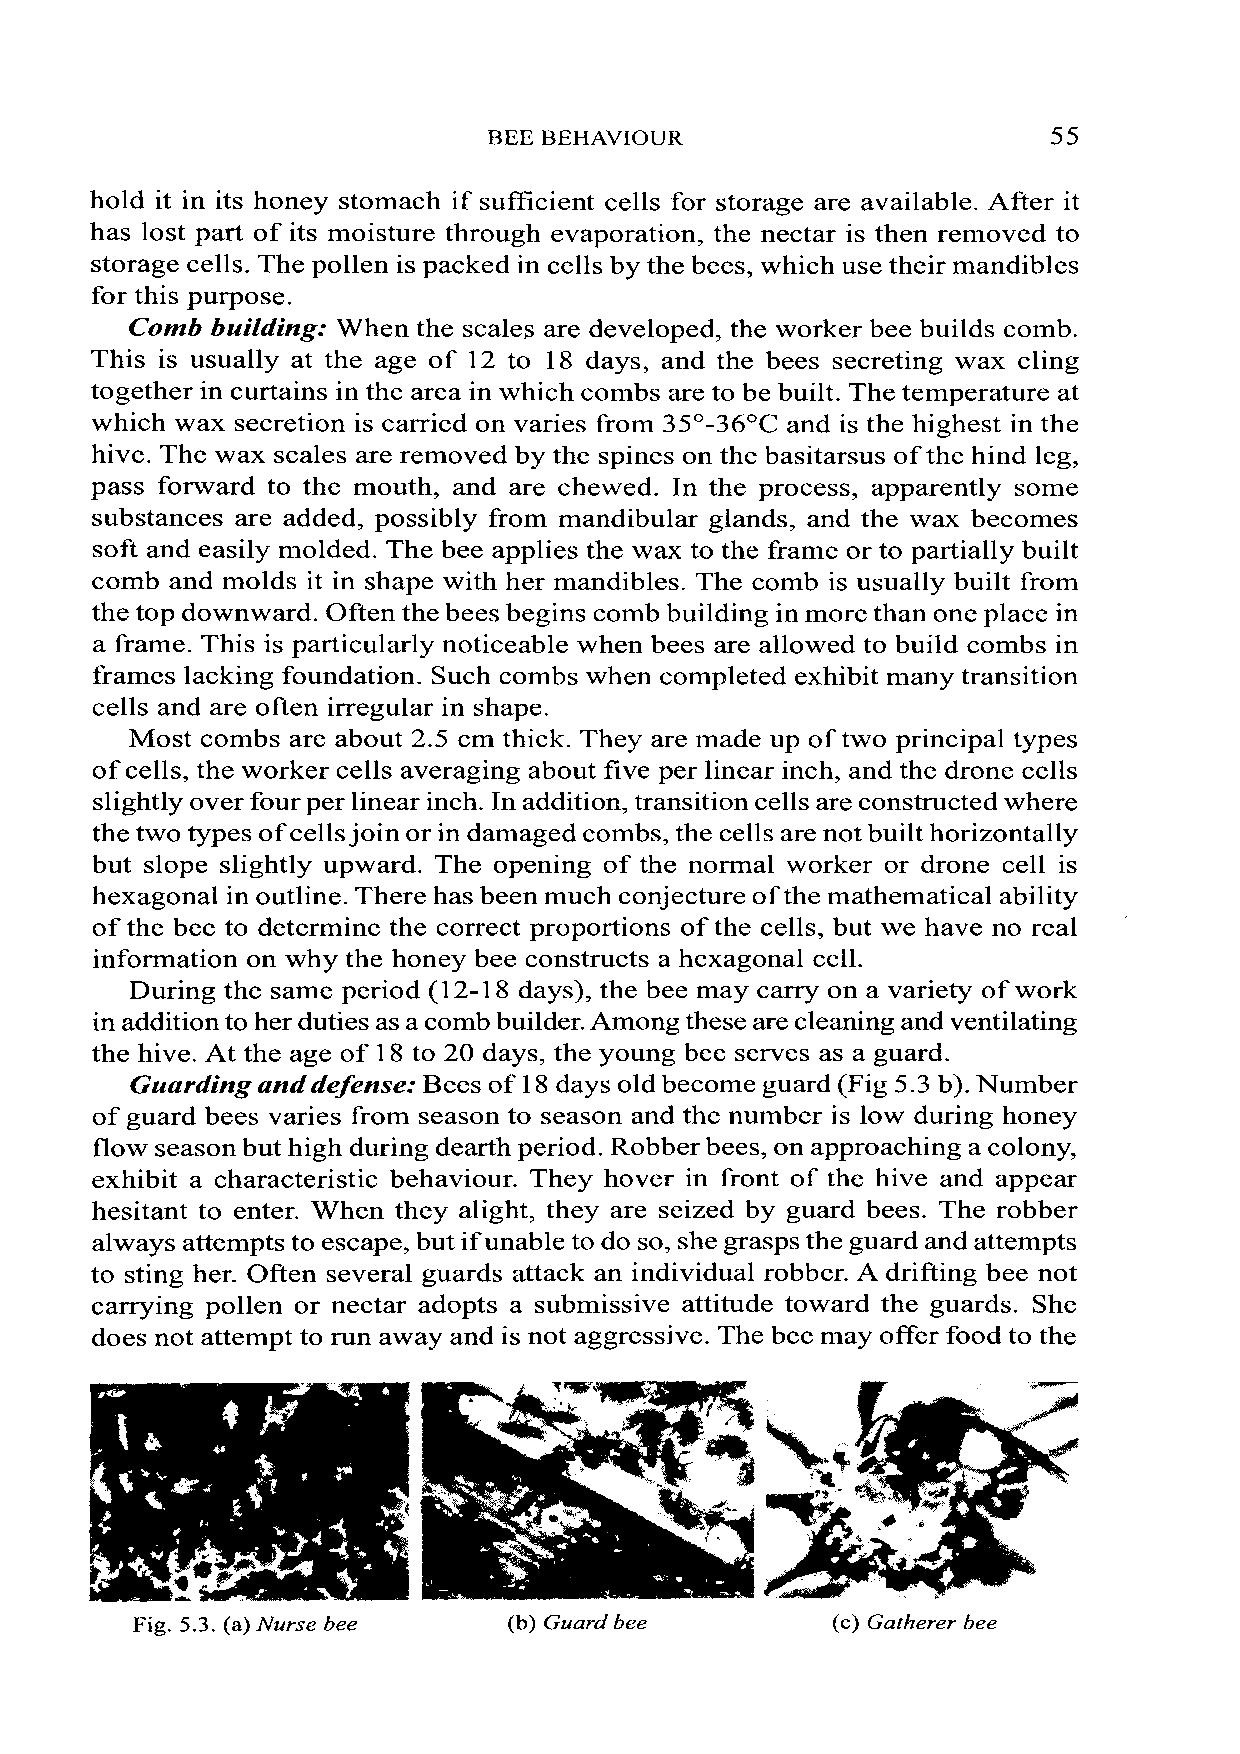content: (83, 185, 1084, 1643)
content_chapter: (479, 123, 684, 149)
content_pagenumber: (1045, 121, 1082, 152)
